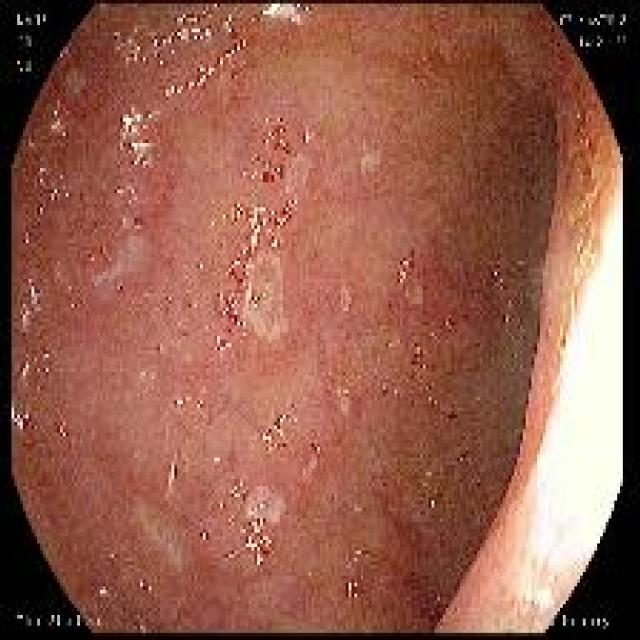ulcerative-colitis: (11, 3, 558, 632)
